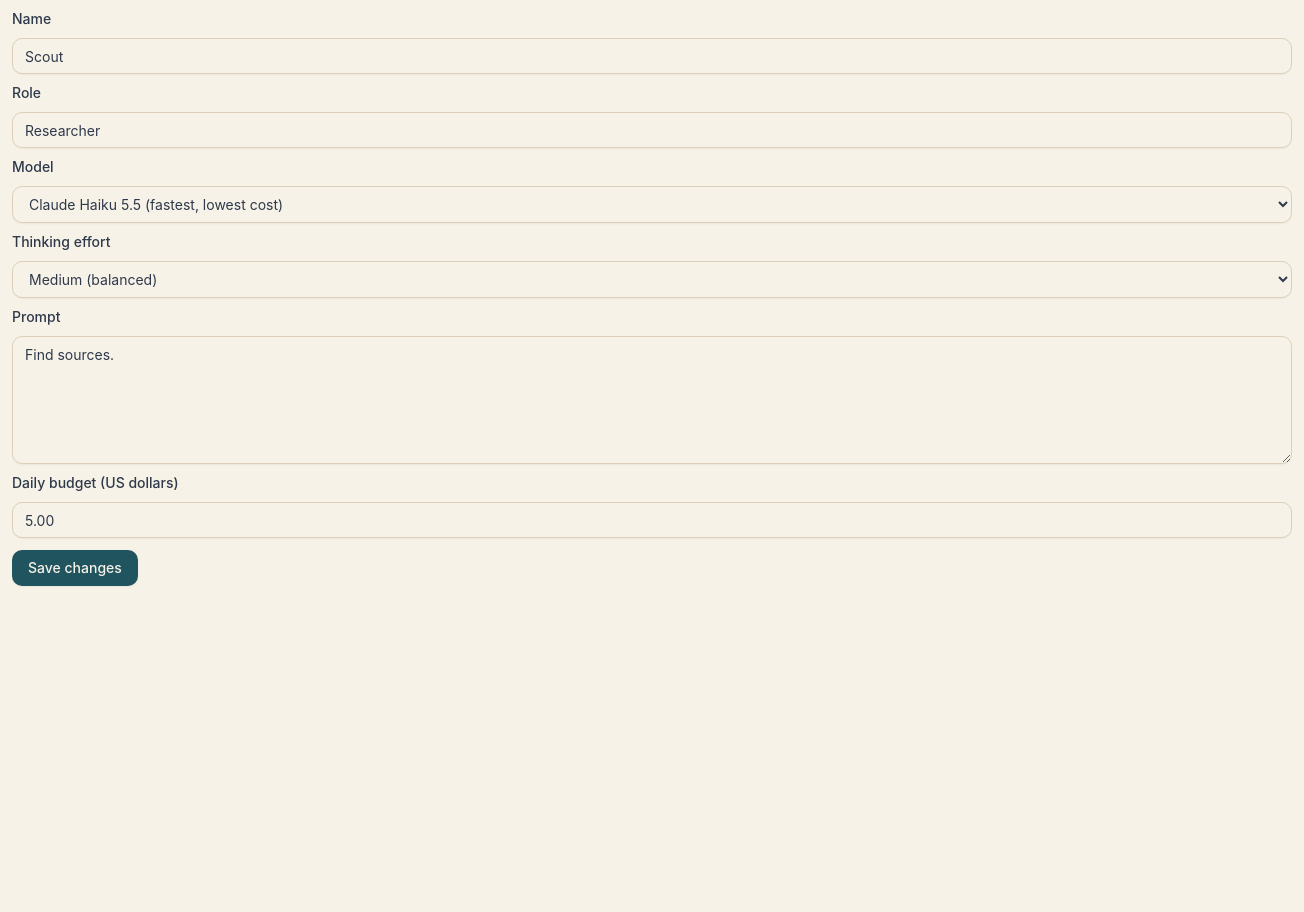
AgentEditForm › names the field in each error, shows it next to the field and focuses the first one
Clear the field labelled "Name" at (652, 56), box [12,38,1292,74]
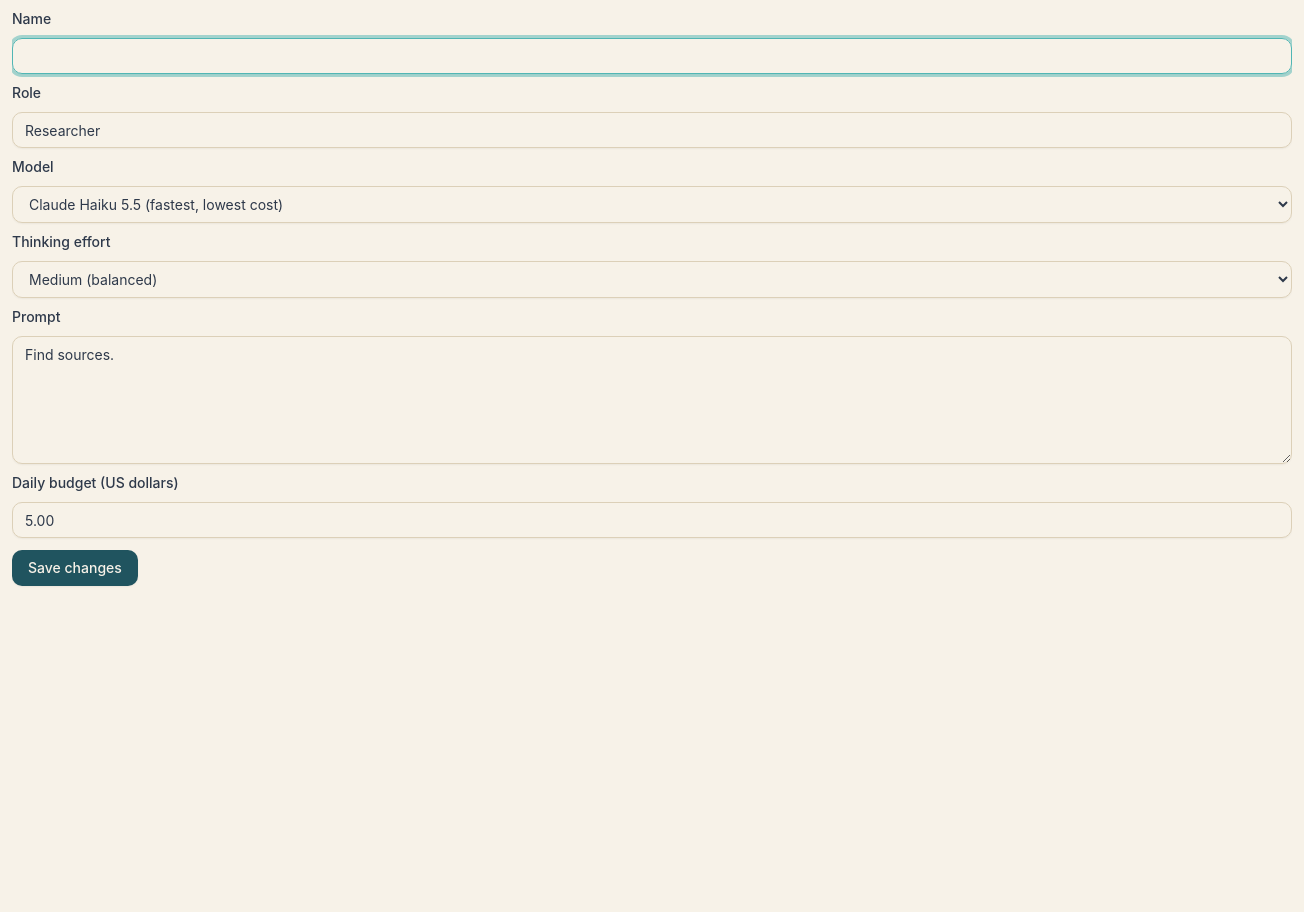
Clear the field labelled "Daily budget (US dollars)" at (652, 520), box [12,502,1292,538]
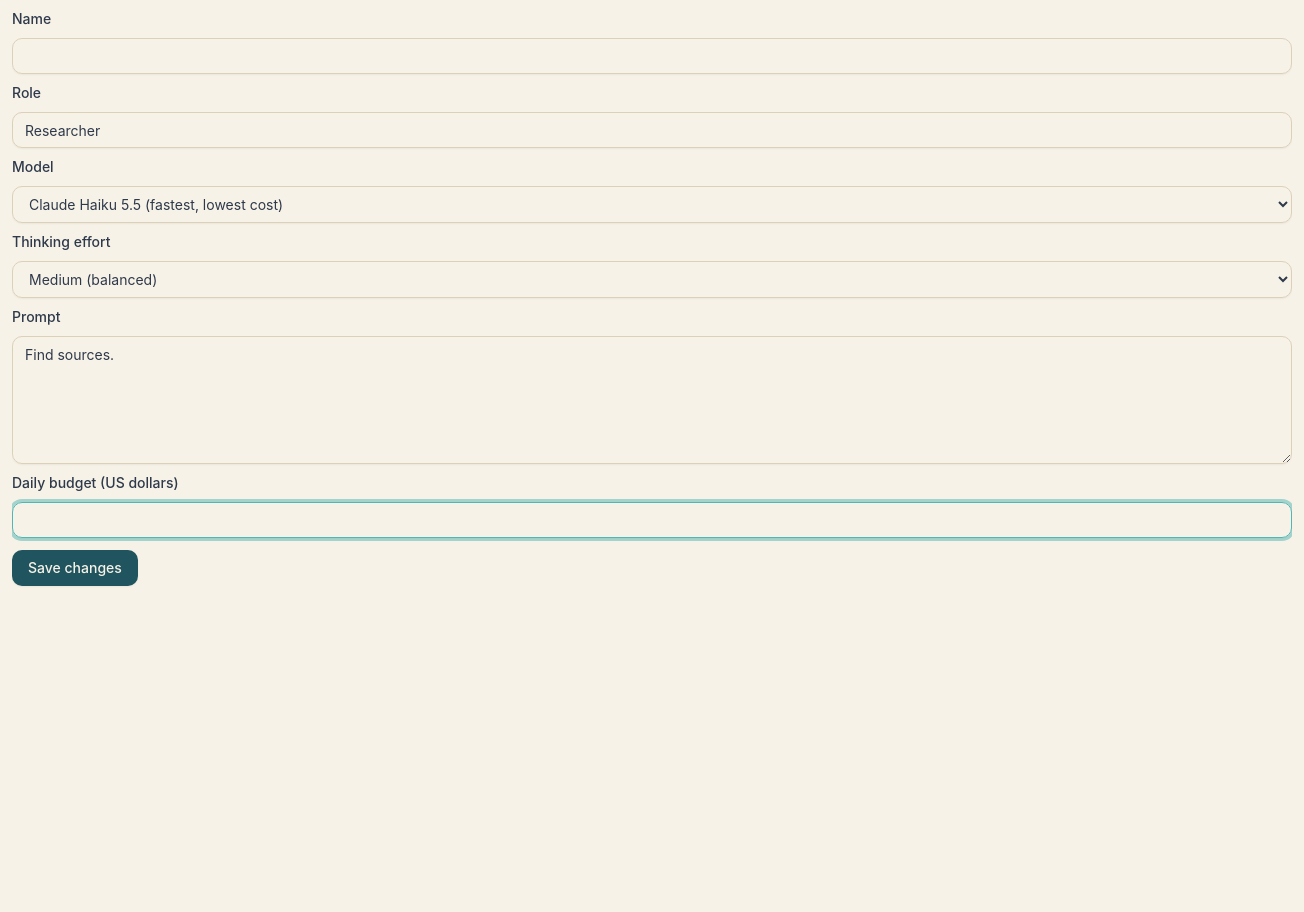
Click the button "Save changes".
click(75, 568)  # box [12,550,138,586]
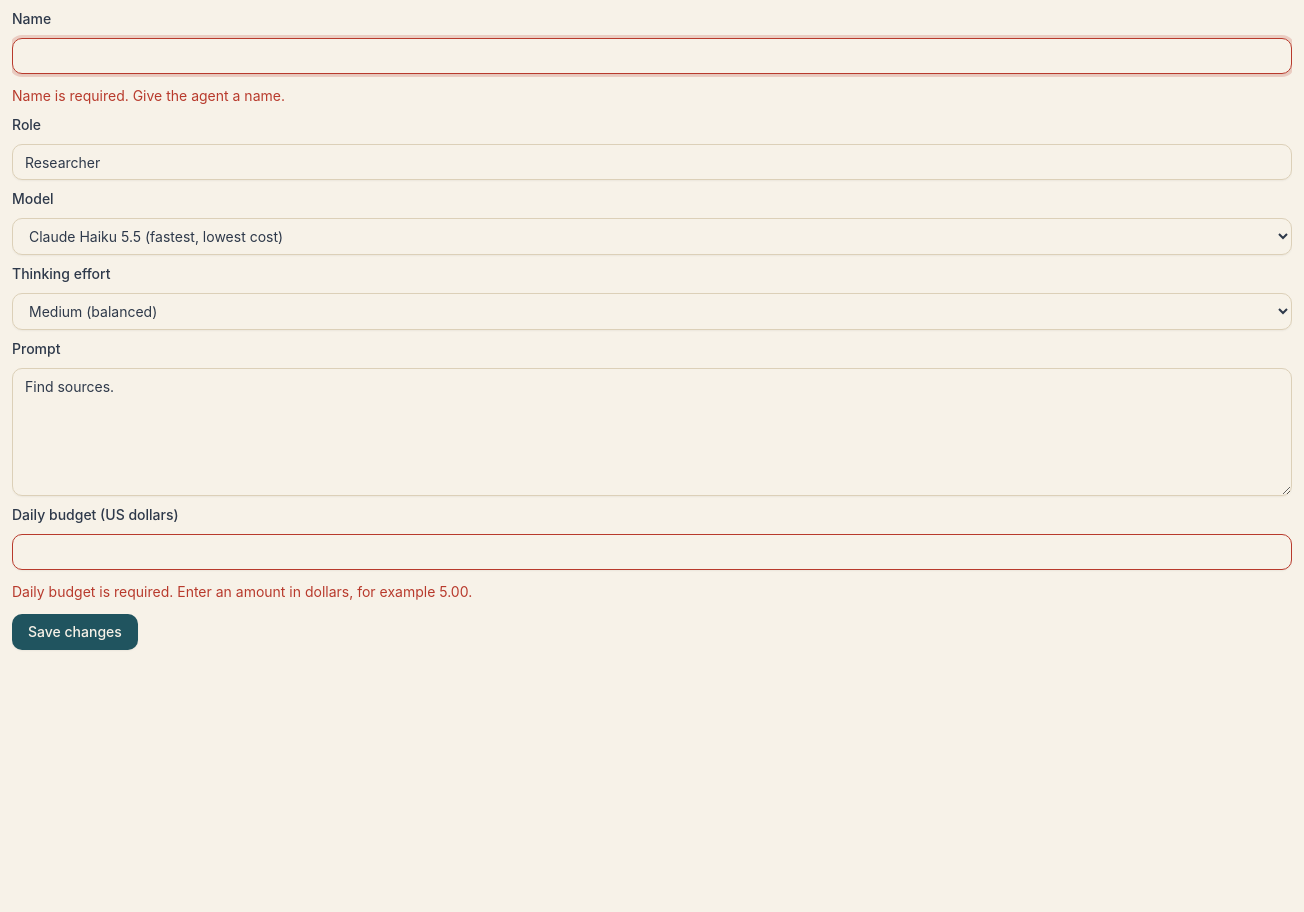
Now the message "Name is required. Give the agent a name." is shown, box [12,87,285,104]
